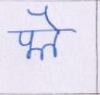au_matra: (37, 6, 62, 54)
